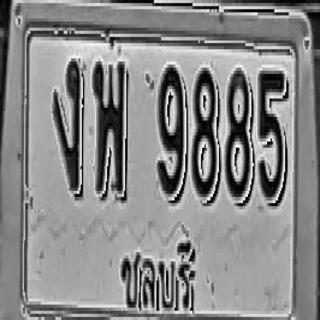A07: (52, 57, 82, 196)
A30: (92, 59, 128, 200)
N05: (258, 69, 288, 205)
N08: (191, 66, 219, 202), (225, 68, 253, 200)
N09: (157, 64, 186, 200)
P13: (113, 230, 197, 320)
